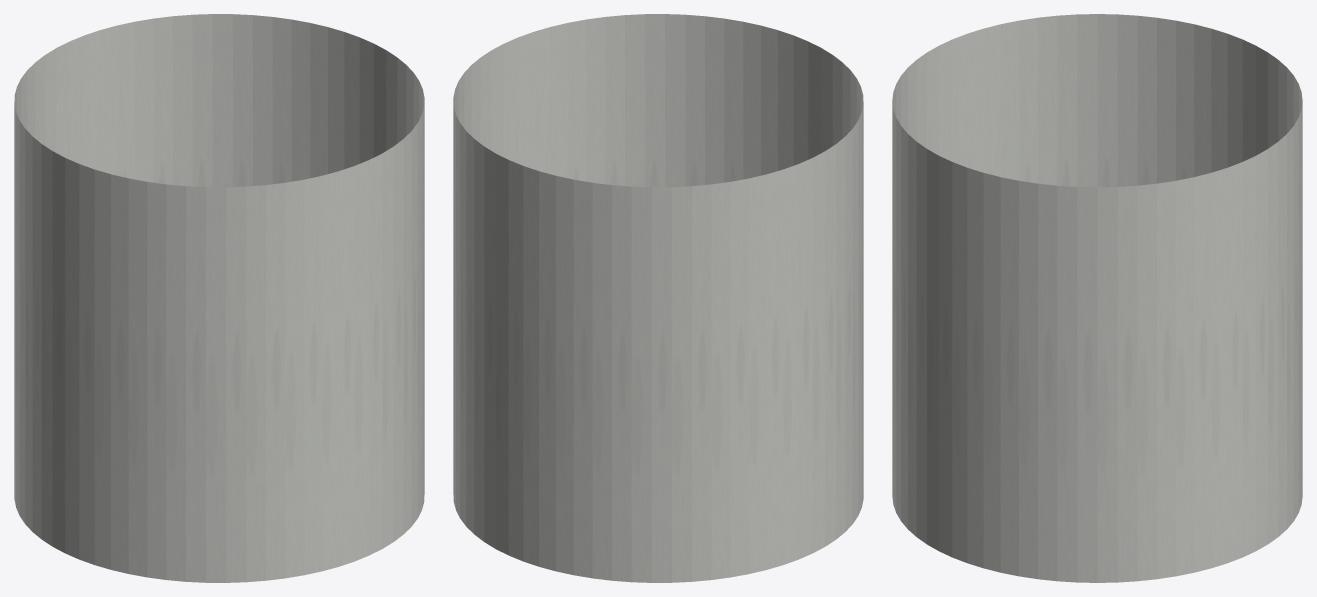
The model's file is body.obj.
3 renders of one model, left to right at view 1: azimuth 30°, elevation 25°; view 2: azimuth 150°, elevation 25°; view 3: azimuth 270°, elevation 25°, orthographic.
Size of the model in its own units: 0.94 by 1 by 0.94.
